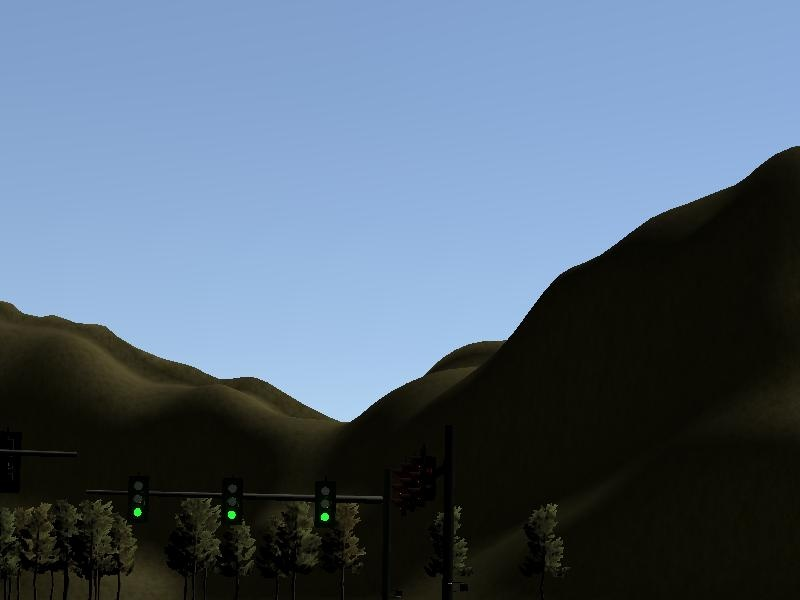green: (316, 482, 337, 528), (222, 479, 243, 525), (127, 476, 148, 522)
